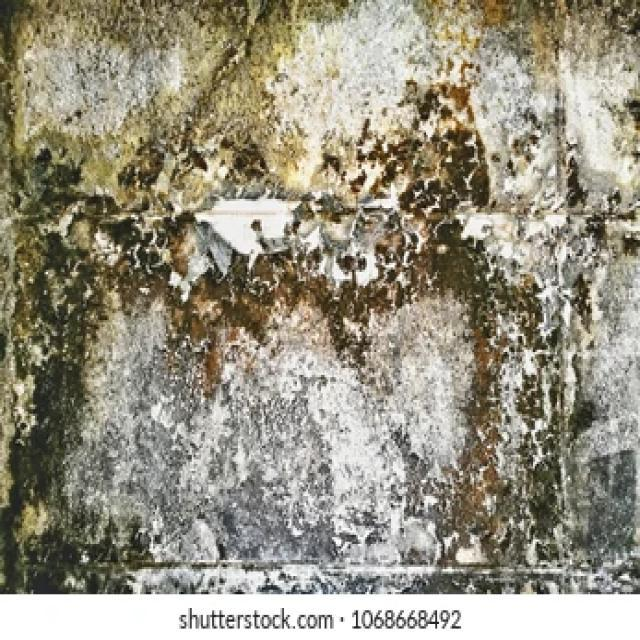Paint peeling: (3, 2, 637, 593)
